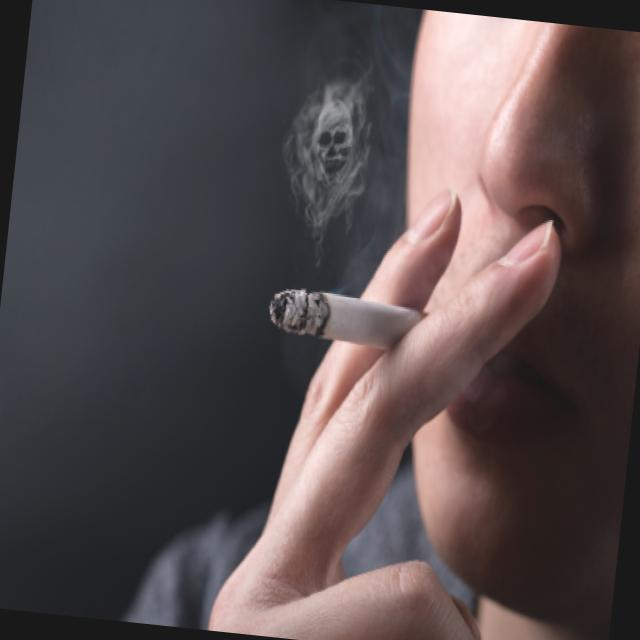cigarette: (258, 278, 436, 367)
